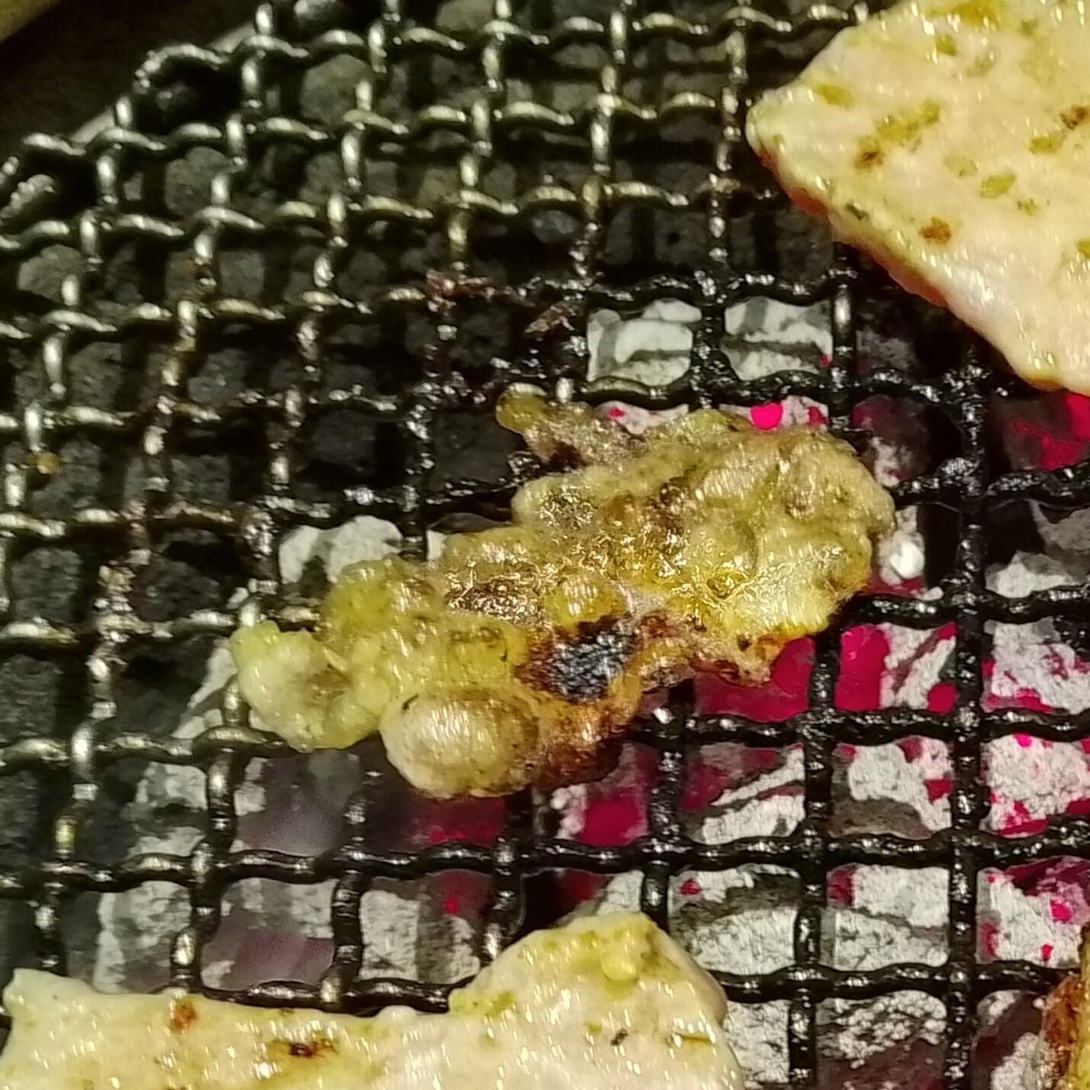Overcooked: (219, 385, 903, 810)
Well-Cooked: (745, 0, 1089, 401), (0, 915, 743, 1089)
